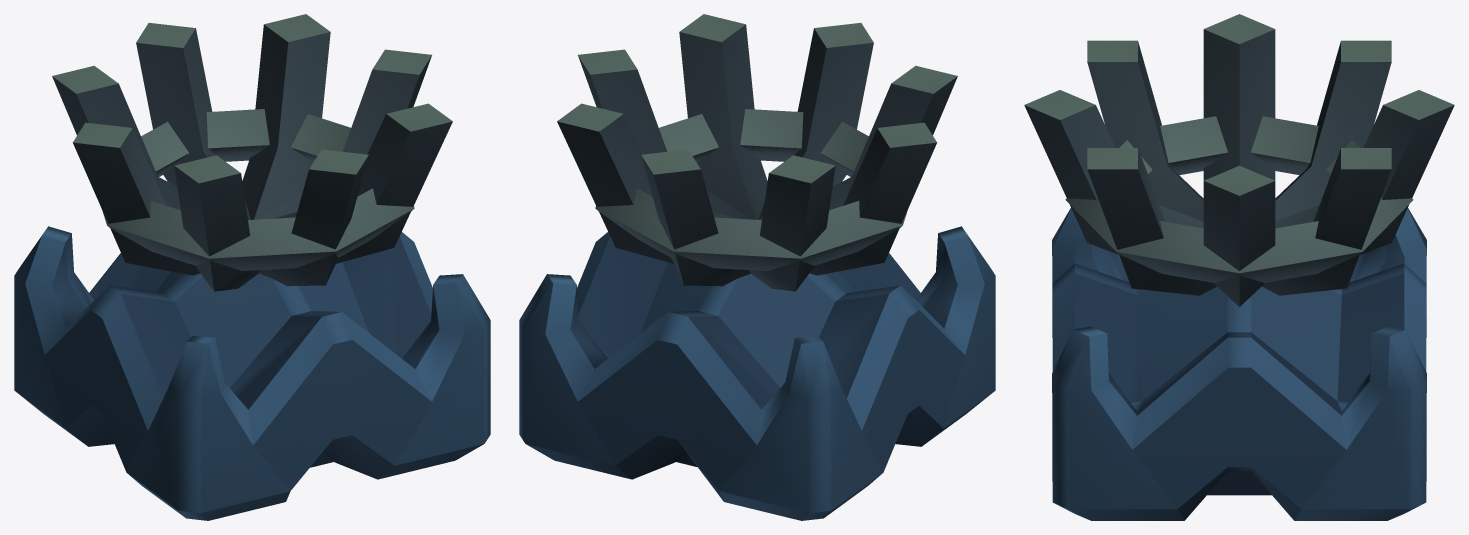
Rendered from torch_3.fbx.
3 renders of one model, left to right at view 1: azimuth 30°, elevation 25°; view 2: azimuth 150°, elevation 25°; view 3: azimuth 270°, elevation 25°, orthographic. The views are drawn at different scales.
Parts seen in each view (by area): view 1: torch_3; view 2: torch_3; view 3: torch_3.
Part boxes in pixels (x1,y1,x2,y2): torch_3: (14, 14, 490, 520); torch_3: (519, 14, 995, 520); torch_3: (1024, 14, 1454, 520).
Bounding box in the file's own units: 130 × 115 × 130.
